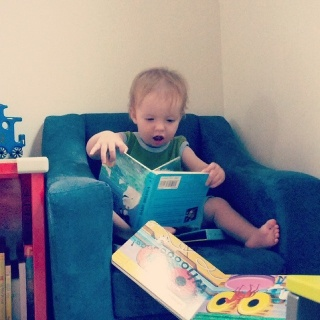without_mask: (136, 94, 181, 146)
